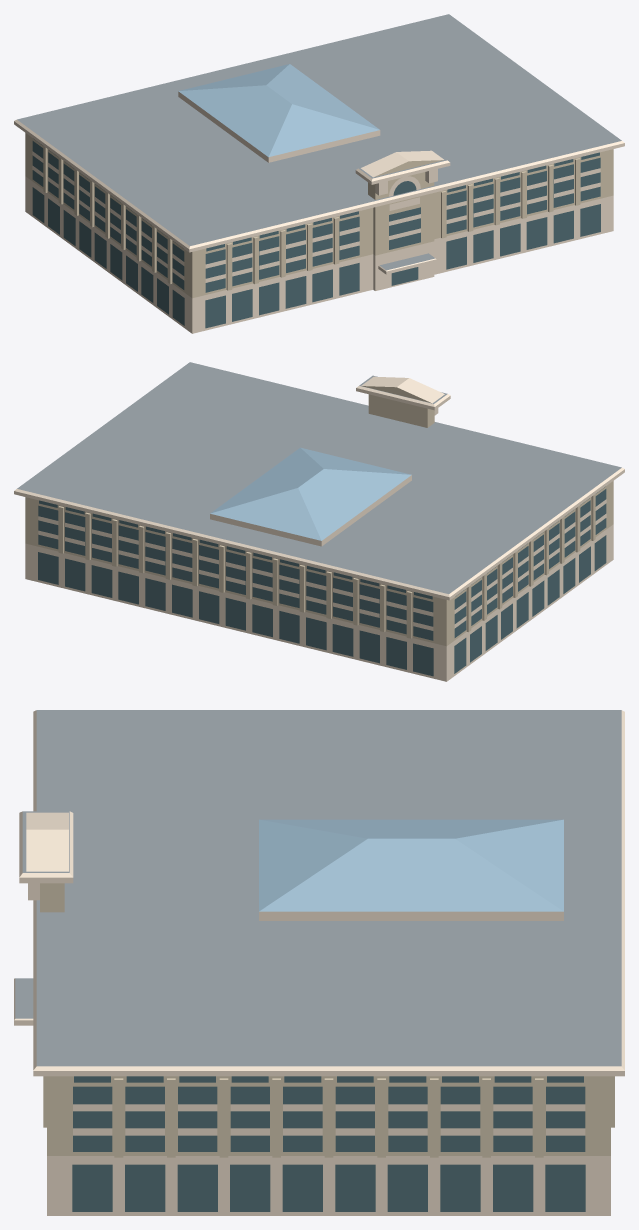
File: jax-st-james-building.glb
3 renders of one model, top to bottom at view 1: azimuth 30°, elevation 25°; view 2: azimuth 150°, elevation 25°; view 3: azimuth 270°, elevation 25°, orthographic. The views are drawn at different scales.
Visible parts, largest first — view 1: St. James Building; view 2: St. James Building; view 3: St. James Building.
Boxes of the visible parts, x1,y1,x2,y2 form: St. James Building: (14,14,624,333); St. James Building: (14,362,624,681); St. James Building: (14,710,624,1215).
Size of the model in its own units: 97.5 by 26.9 by 70.1.
